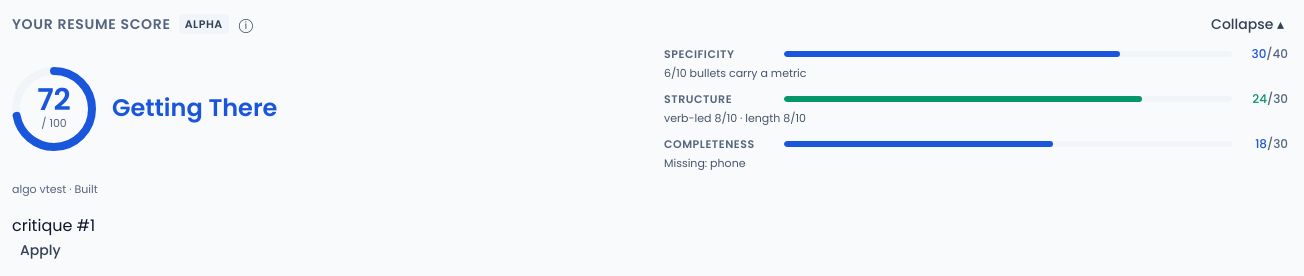
Test: ScoreDetails — docking hides the details, it does not discard them › keeps the children mounted, with their state, across a user dock
expect the text with id "critique" reads "critique #1": met, box [12,214,95,236]
Click the button "Collapse ▴" at [1248, 24], box [1203,12,1292,36]
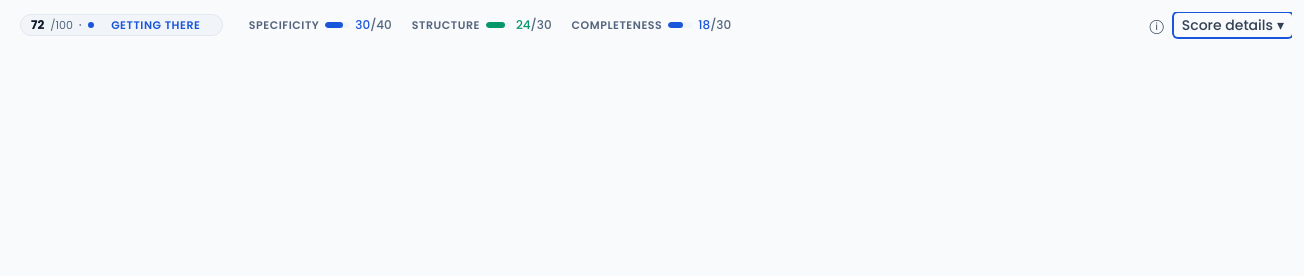
expect the text "Score details ▾" is shown: met, box [1174,13,1292,37]
